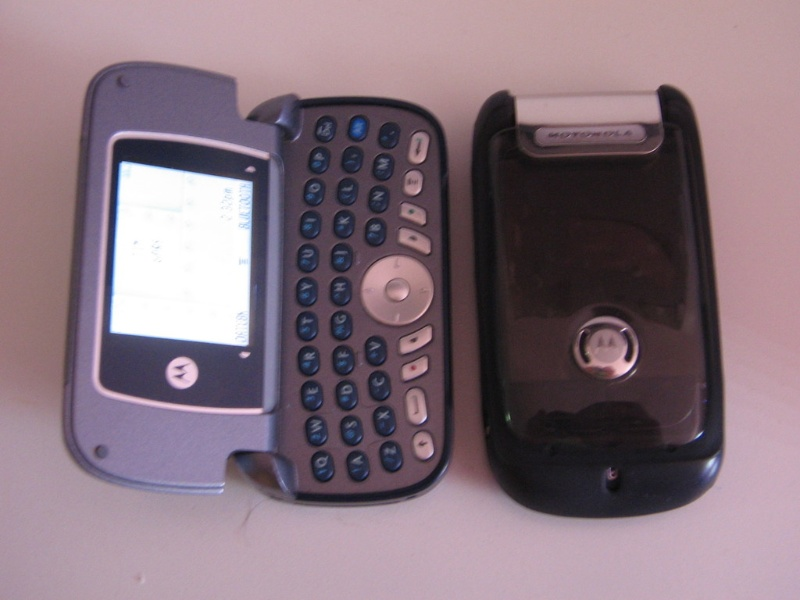cellphone: (467, 92, 729, 519)
